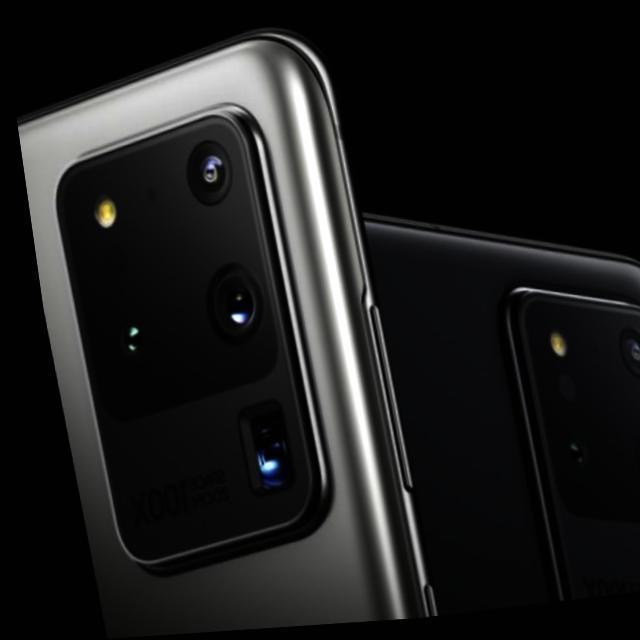lens: (55, 116, 322, 556), (499, 287, 640, 560)
phone: (19, 34, 438, 636), (368, 216, 636, 610)
